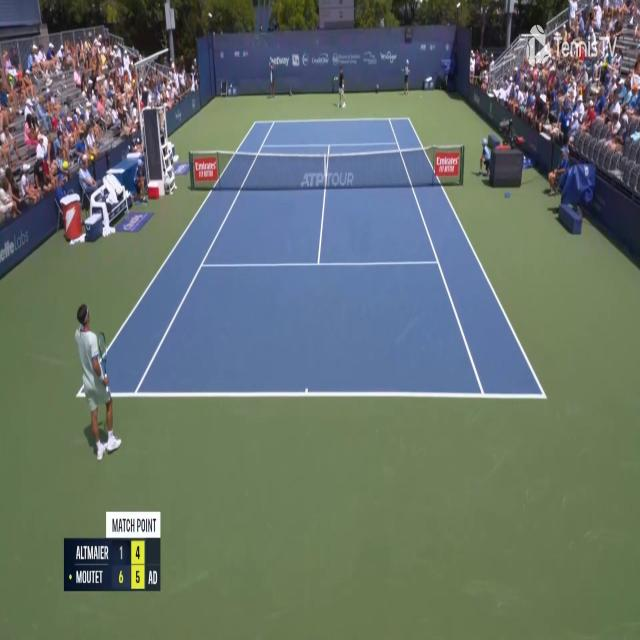tennis-player: (73, 300, 136, 464), (331, 64, 347, 108)
